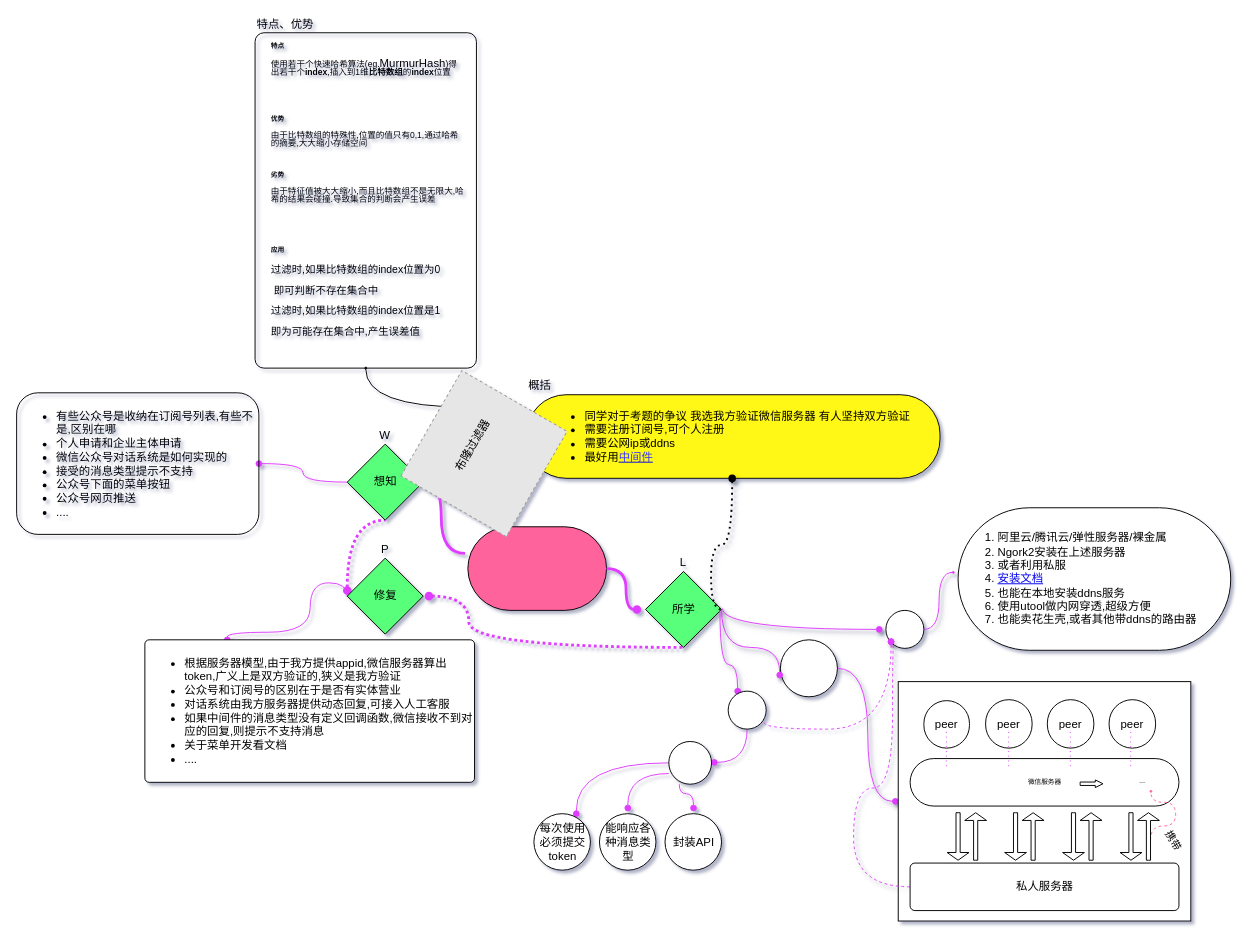
The diagram is 1253 pixels wide and 943 high, and some of its shapes have lost their labels. Grey dashed boxes stand in for pictures. The centre of each missing label's shape, as x and y in pixels:
"wechat" goes at pixel 690 762.
"中间件" goes at pixel 746 709.
"公网ip" goes at pixel 904 628.
"微信公众号开发" goes at pixel 537 568.
"微信服务器模型" goes at pixel 808 668.
